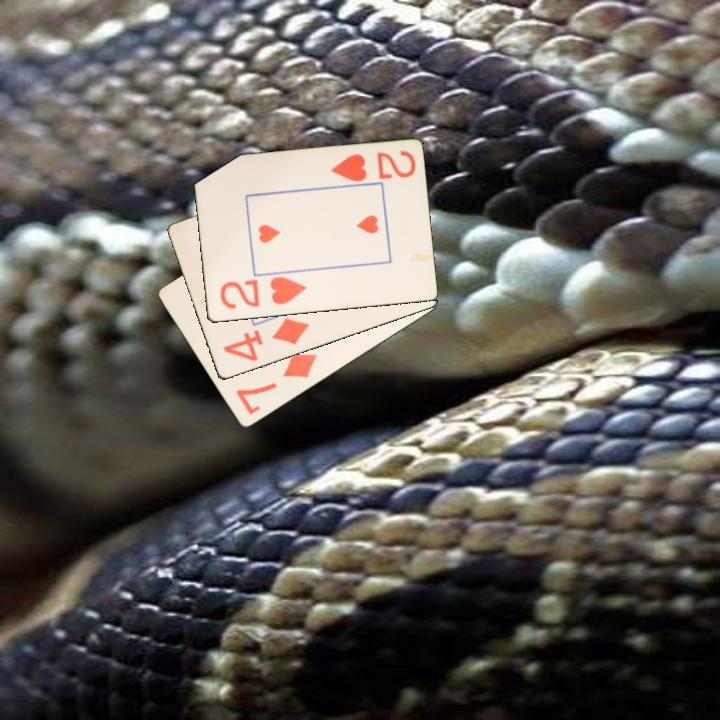2h: (216, 273, 309, 312), (327, 147, 418, 185)
4d: (219, 314, 312, 365)
7d: (232, 350, 320, 419)
